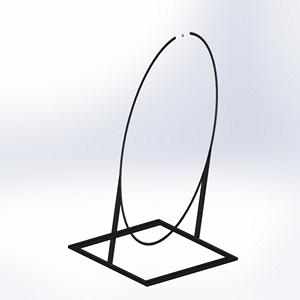circle: (66, 30, 239, 286)
